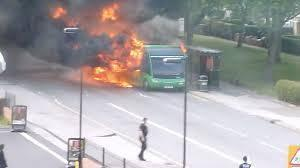fire: (46, 3, 161, 91)
